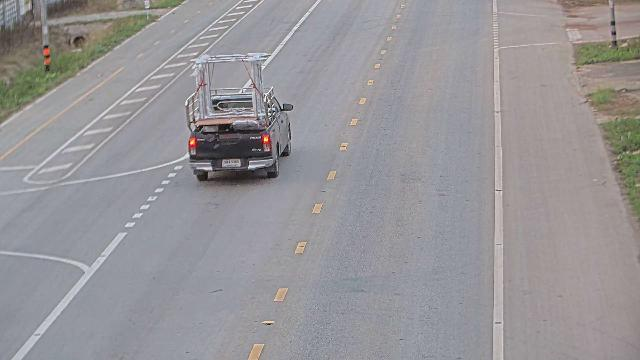pickup-truck: (184, 51, 294, 182)
